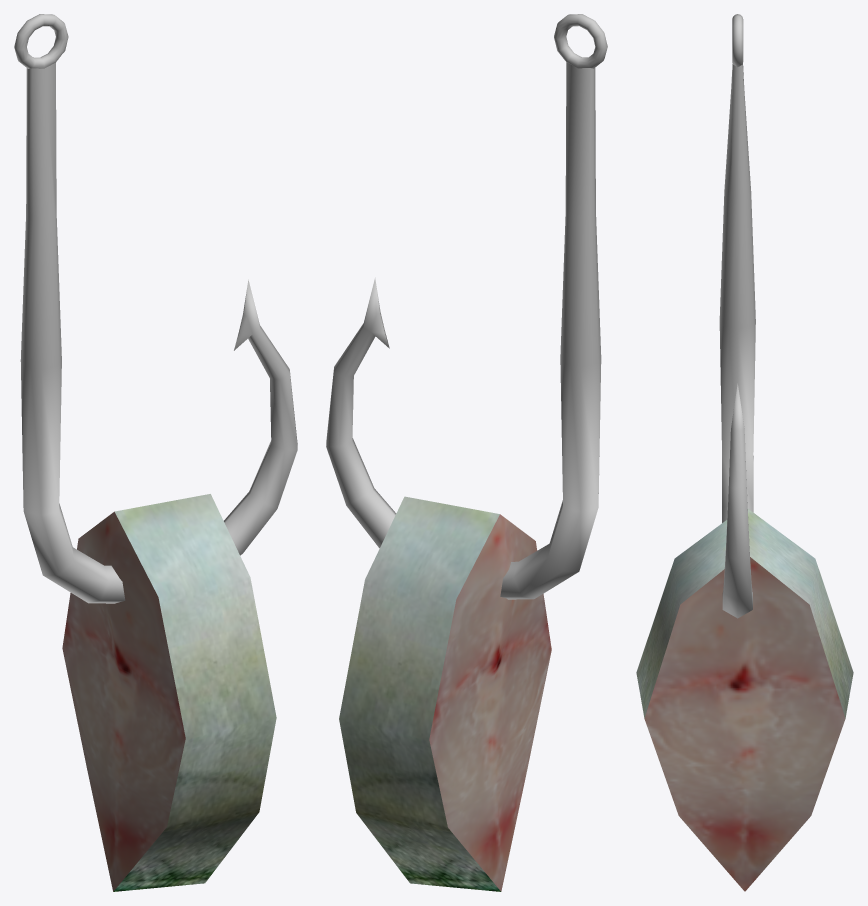
File: Bait_BlueRunner.fbx
3 renders of one model, left to right at view 1: azimuth 30°, elevation 25°; view 2: azimuth 150°, elevation 25°; view 3: azimuth 270°, elevation 25°, orthographic. The views are drawn at different scales.
Visible parts, largest first — view 1: Bait_BlueRunner; view 2: Bait_BlueRunner; view 3: Bait_BlueRunner.
Part boxes in pixels (bbox=[...]): Bait_BlueRunner: bbox=[14, 14, 297, 891]; Bait_BlueRunner: bbox=[326, 14, 607, 891]; Bait_BlueRunner: bbox=[636, 14, 853, 891].
Size of the model in its own units: 0.2116 by 0.653 by 0.16.
